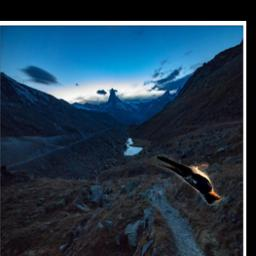Swallow: (145, 154, 225, 206)
